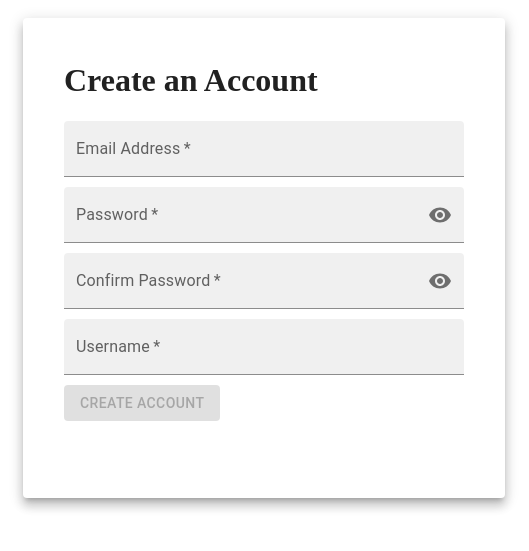
it: In account creation, › when confirm password is touched and does not match password, which is valid, there should be error text
Type "testing123" into the password field labelled "Password *" at (242, 215), box [64,187,420,243]
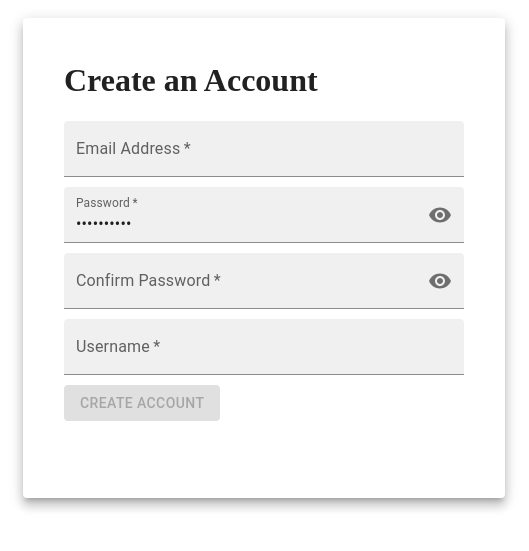
Type "testing456" into the password field labelled "Confirm Password *" at (242, 281), box [64,253,420,309]
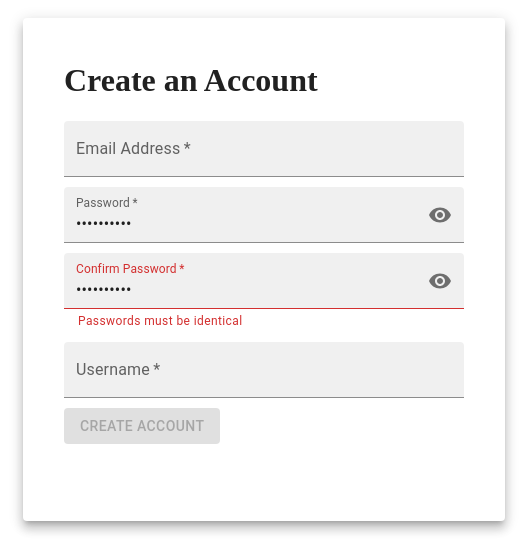
Now the text "Passwords must be identical" is shown, box [78,314,242,328]
